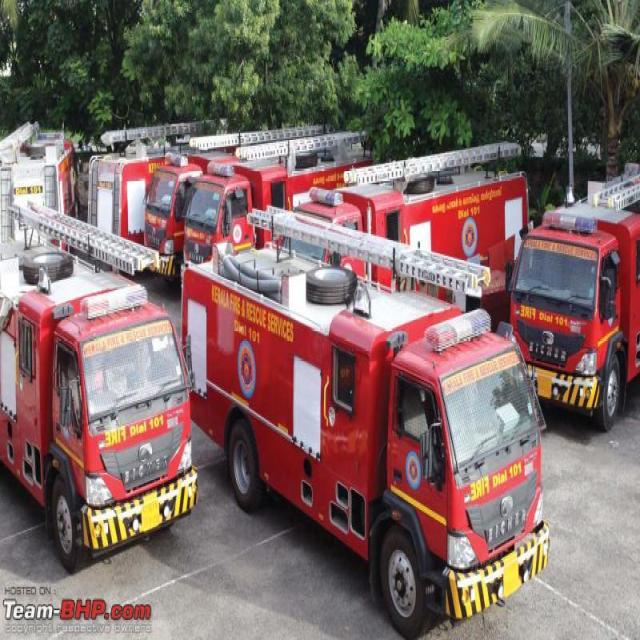emergency: (181, 208, 549, 636), (0, 203, 198, 569), (299, 143, 529, 324), (510, 165, 640, 430), (185, 132, 368, 262)
